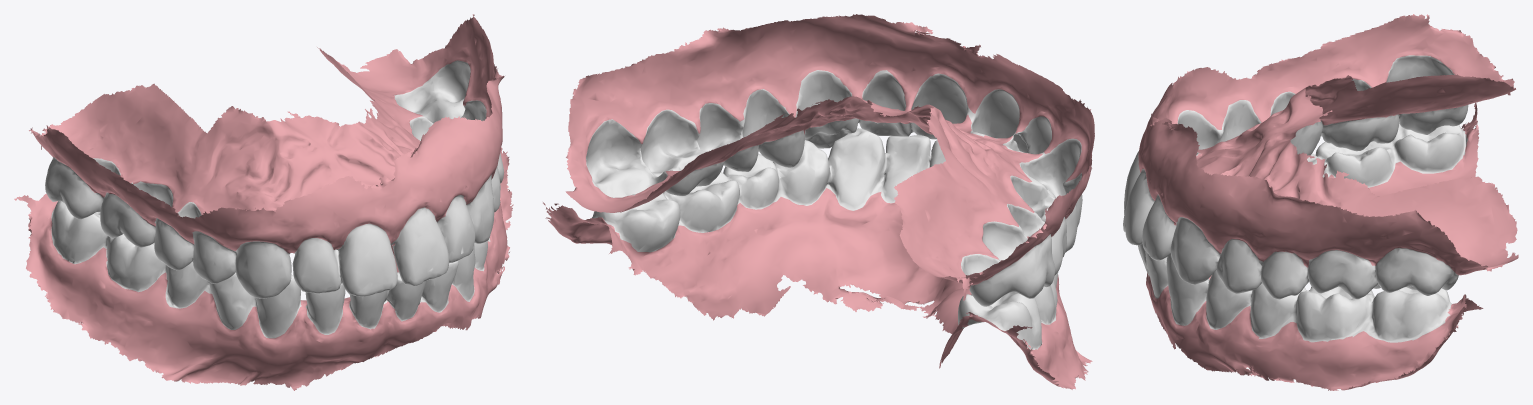
File: Model_Teeth01.fbx
The picture shows the model from 3 angles, left to right: view 1: azimuth 30°, elevation 25°; view 2: azimuth 150°, elevation 25°; view 3: azimuth 270°, elevation 25°; orthographic projection. The views are drawn at different scales.
Visible parts, largest first — view 1: 3010 UpperJawScan, 3010 LowerJawScan; view 2: 3010 UpperJawScan, 3010 LowerJawScan; view 3: 3010 UpperJawScan, 3010 LowerJawScan.
Part boxes in pixels (x1=…): 3010 UpperJawScan: x1=29, y1=14, x2=504, y2=298; 3010 LowerJawScan: x1=14, y1=147, x2=513, y2=390; 3010 UpperJawScan: x1=565, y1=14, x2=1094, y2=306; 3010 LowerJawScan: x1=543, y1=128, x2=1092, y2=389; 3010 UpperJawScan: x1=1123, y1=14, x2=1518, y2=299; 3010 LowerJawScan: x1=1138, y1=102, x2=1483, y2=390.
Bounding box in the file's own units: 143 × 68.99 × 104.
